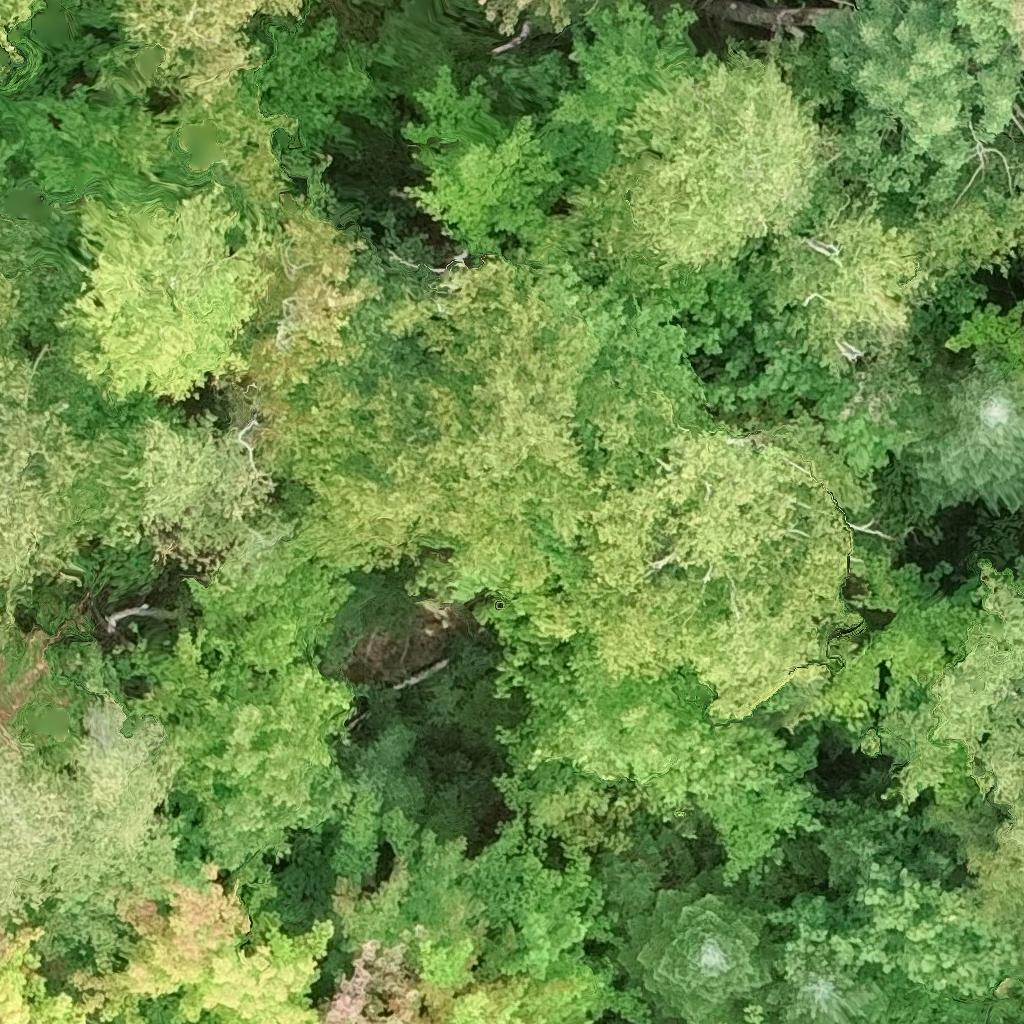crown: (305, 788, 658, 1023), (870, 562, 1023, 923), (772, 855, 1018, 1001), (616, 866, 788, 1023), (827, 579, 983, 721), (904, 346, 1023, 520), (700, 751, 820, 889), (591, 820, 701, 922), (848, 538, 946, 610), (941, 300, 1023, 375), (721, 1005, 769, 1023)
